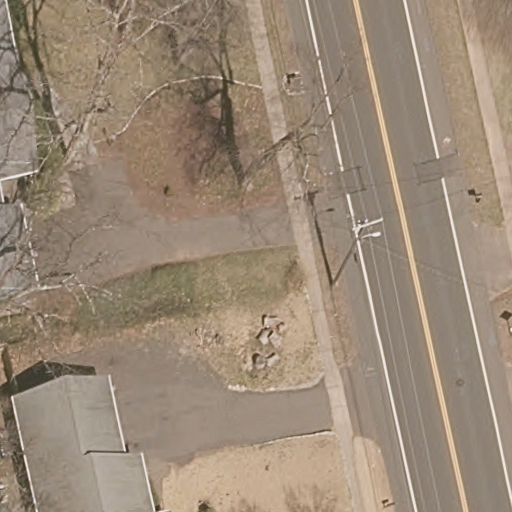DT: (330, 217, 384, 288)
